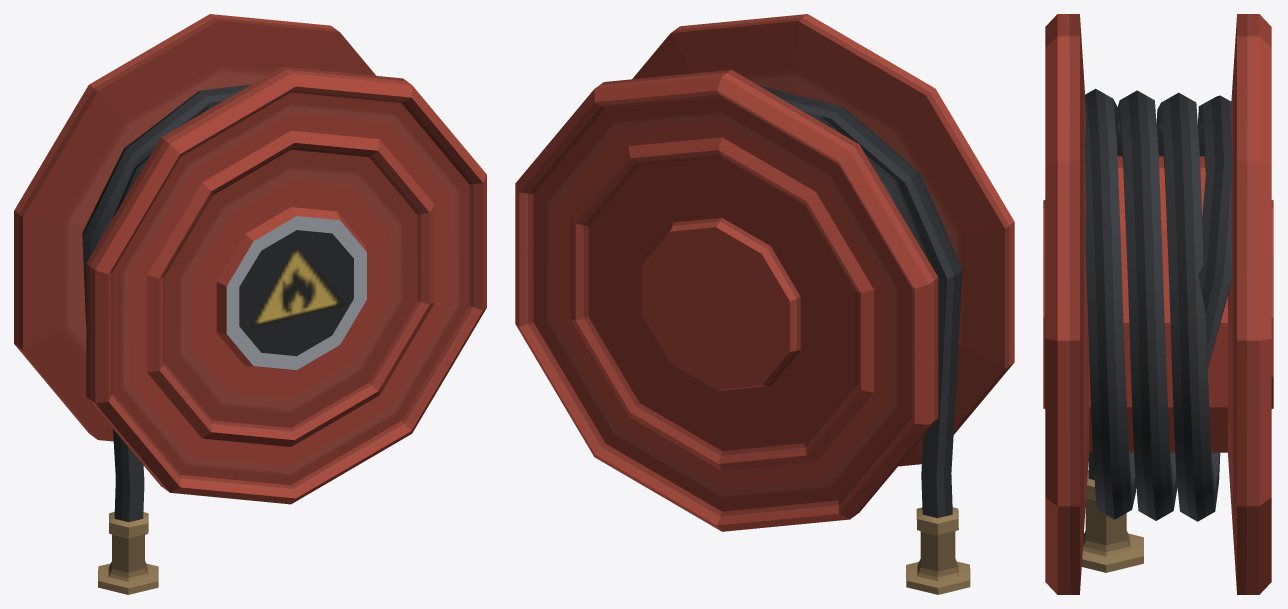
File: SM_Prop_Fire_Hose_01.fbx
3 renders of one model, left to right at view 1: azimuth 30°, elevation 25°; view 2: azimuth 150°, elevation 25°; view 3: azimuth 270°, elevation 25°, orthographic. The views are drawn at different scales.
Parts seen in each view (by area): view 1: SM_Prop_Fire_Hose_01; view 2: SM_Prop_Fire_Hose_01; view 3: SM_Prop_Fire_Hose_01.
Part boxes in pixels (box(x1,y1,x2,y2)): SM_Prop_Fire_Hose_01: box(14, 14, 486, 594); SM_Prop_Fire_Hose_01: box(515, 14, 1014, 594); SM_Prop_Fire_Hose_01: box(1043, 14, 1273, 594).
Bounding box in the file's own units: 73.34 × 87.28 × 30.03.
